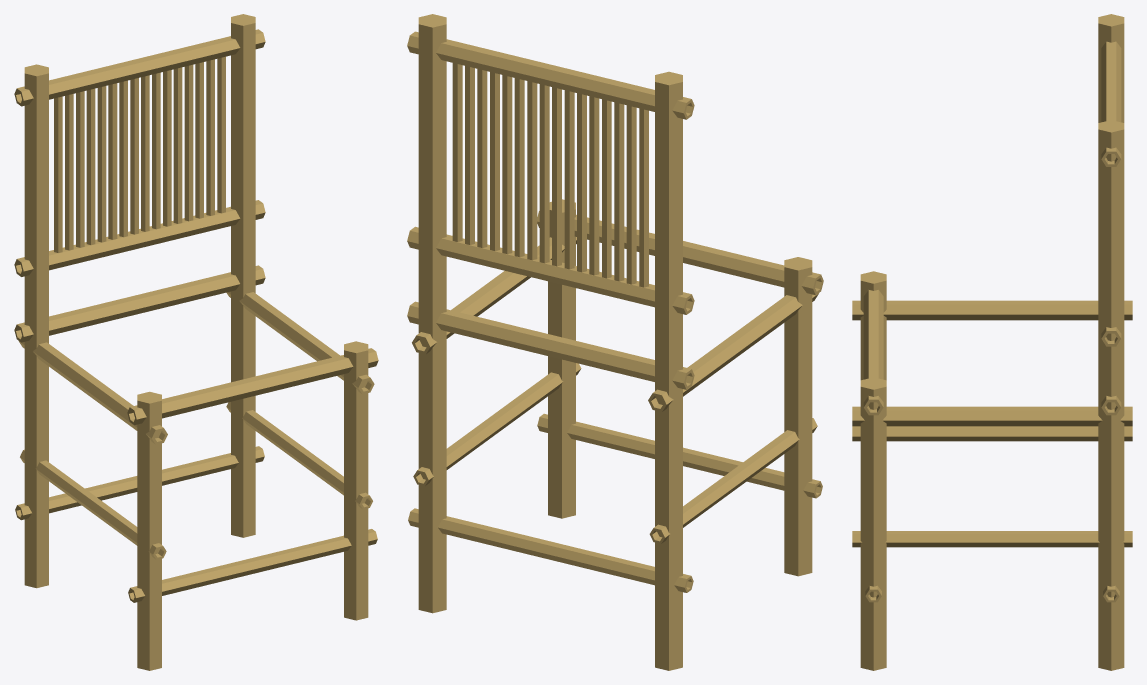
Rendered from ghe_tre.far.glb.
3 renders of one model, left to right at view 1: azimuth 30°, elevation 25°; view 2: azimuth 150°, elevation 25°; view 3: azimuth 270°, elevation 25°, orthographic. The views are drawn at different scales.
Parts seen in each view (by area): view 1: ghe_tre; view 2: ghe_tre; view 3: ghe_tre.
Part boxes in pixels (left/top/right/bottom): ghe_tre: left=14, top=14, right=378, bottom=670; ghe_tre: left=407, top=14, right=823, bottom=670; ghe_tre: left=852, top=14, right=1132, bottom=670.
Bounding box in the file's own units: 0.445 × 0.9 × 0.425.
